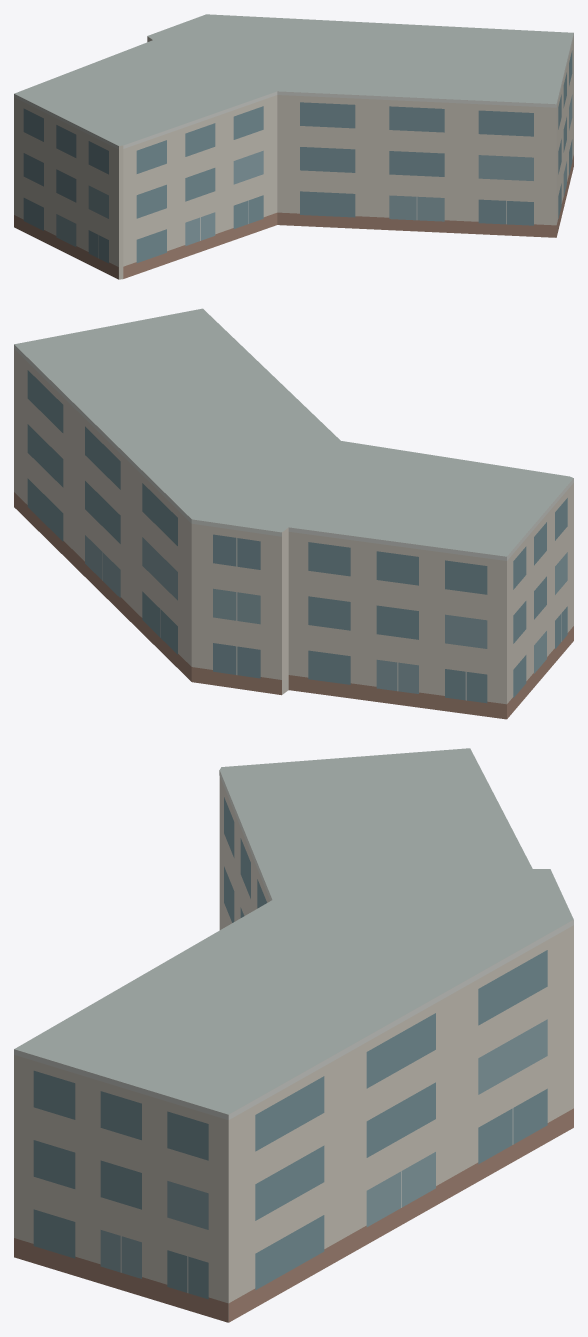
The model's file is survey-upis-32753022.glb.
The picture shows the model from 3 angles, top to bottom: view 1: azimuth 30°, elevation 25°; view 2: azimuth 150°, elevation 25°; view 3: azimuth 270°, elevation 25°; orthographic projection. The views are drawn at different scales.
Parts seen in each view (by area): view 1: survey-upis-32753022.tmp; view 2: survey-upis-32753022.tmp; view 3: survey-upis-32753022.tmp.
Boxes of the visible parts, x1=… form: survey-upis-32753022.tmp: x1=14, y1=14, x2=573, y2=279; survey-upis-32753022.tmp: x1=14, y1=308, x2=573, y2=719; survey-upis-32753022.tmp: x1=14, y1=748, x2=573, y2=1322.
Bounding box in the file's own units: 34.57 × 9.15 × 22.32.
